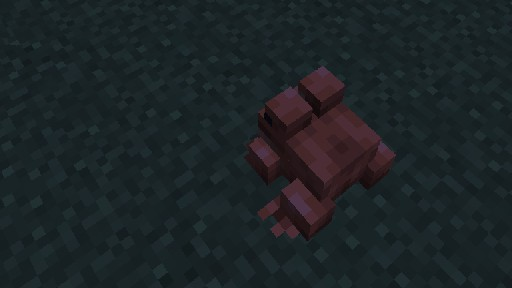frog: (243, 65, 395, 241)
